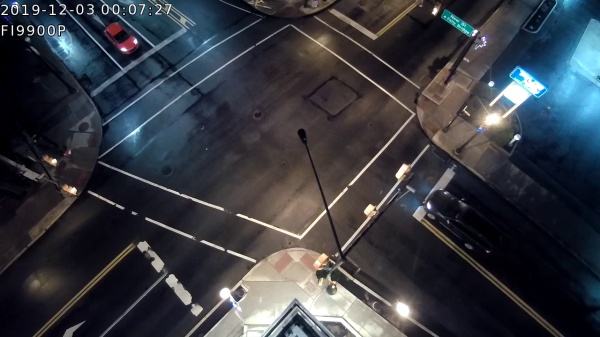car: (424, 188, 502, 256), (106, 20, 141, 59)
